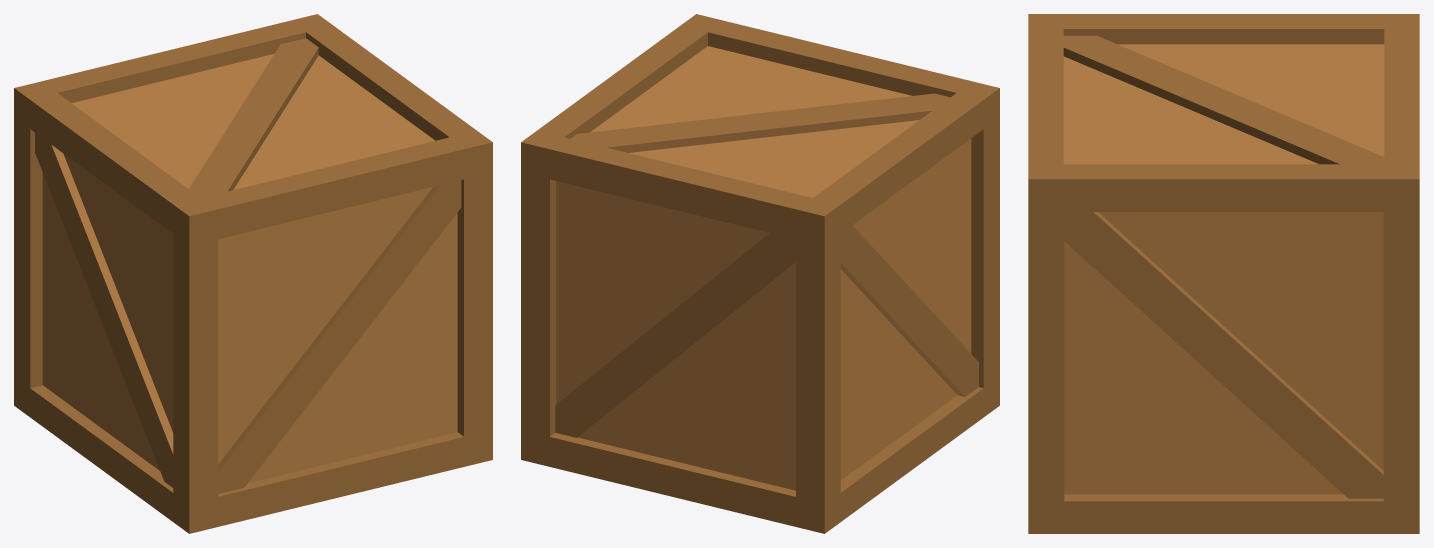
The picture shows the model from 3 angles, left to right: view 1: azimuth 30°, elevation 25°; view 2: azimuth 150°, elevation 25°; view 3: azimuth 270°, elevation 25°; orthographic projection. The views are drawn at different scales.
Parts seen in each view (by area): view 1: Box; view 2: Box; view 3: Box.
Boxes of the visible parts, x1,y1,x2,y2 form: Box: (14,14,492,533); Box: (521,14,999,533); Box: (1028,14,1419,533).
Bounding box in the file's own units: 1.08 × 1.08 × 1.08.
